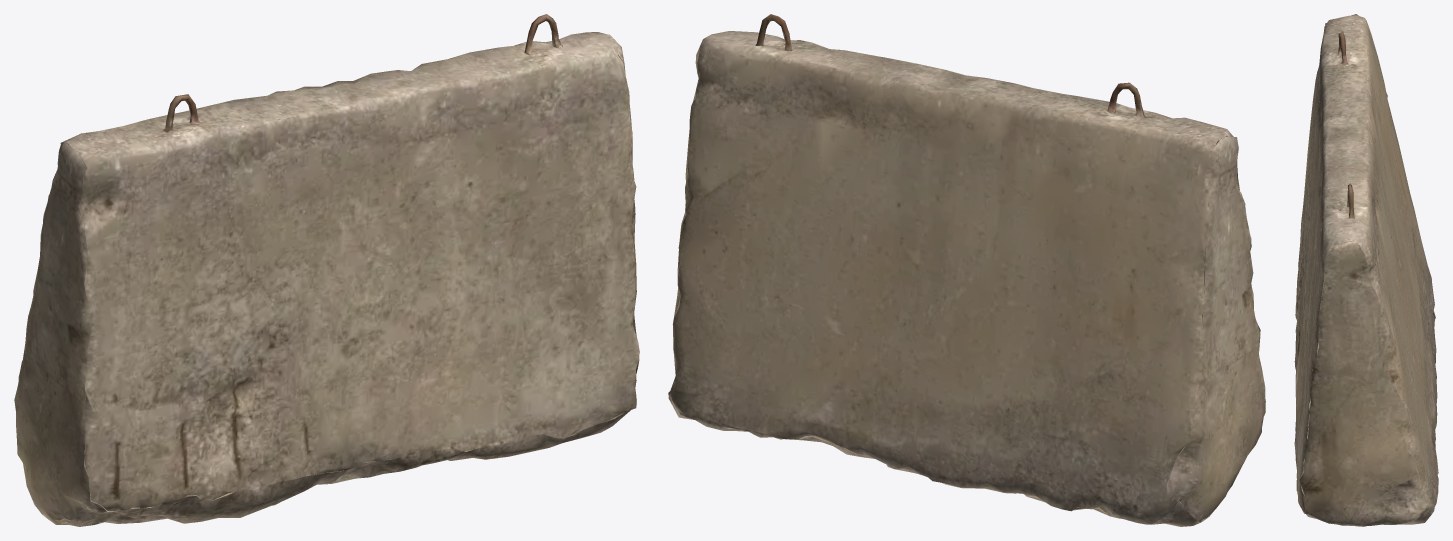
File: concrete_road_barrier_02.glb
3 renders of one model, left to right at view 1: azimuth 30°, elevation 25°; view 2: azimuth 150°, elevation 25°; view 3: azimuth 270°, elevation 25°, orthographic. The views are drawn at different scales.
Parts seen in each view (by area): view 1: concrete_road_barrier_02; view 2: concrete_road_barrier_02; view 3: concrete_road_barrier_02.
Boxes of the visible parts, x1,y1,x2,y2 form: concrete_road_barrier_02: (14, 14, 639, 526); concrete_road_barrier_02: (668, 14, 1265, 526); concrete_road_barrier_02: (1294, 14, 1438, 526).
Bounding box in the file's own units: 1.56 × 1.11 × 0.44.
1 material, 1 textured.
